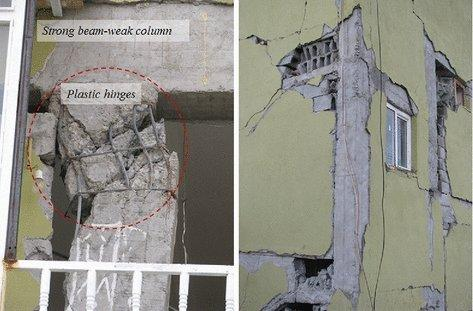crack: (373, 0, 385, 311), (411, 0, 458, 77), (271, 0, 321, 42), (244, 79, 283, 128), (247, 90, 288, 136), (65, 106, 99, 150), (443, 221, 453, 311), (289, 72, 332, 89), (383, 284, 442, 293), (358, 56, 371, 93), (364, 272, 375, 311), (128, 162, 149, 181), (265, 51, 286, 68), (388, 89, 408, 105), (111, 127, 137, 139), (143, 224, 150, 264), (420, 300, 441, 311), (104, 230, 116, 249), (124, 156, 138, 171), (449, 195, 472, 204), (416, 176, 429, 191), (162, 190, 178, 201), (267, 298, 283, 309), (320, 29, 335, 40), (240, 287, 247, 310), (252, 255, 260, 274), (120, 199, 131, 210), (369, 25, 374, 49), (61, 121, 75, 129), (427, 202, 433, 220), (143, 191, 154, 200), (152, 156, 164, 164), (312, 94, 331, 99), (246, 270, 251, 283), (135, 191, 143, 198), (430, 258, 433, 274), (458, 223, 471, 226), (370, 0, 372, 15), (239, 38, 246, 41)
damage: (241, 6, 418, 311), (49, 83, 180, 223), (428, 34, 472, 270), (25, 248, 53, 260), (246, 34, 271, 47), (38, 148, 55, 167)
